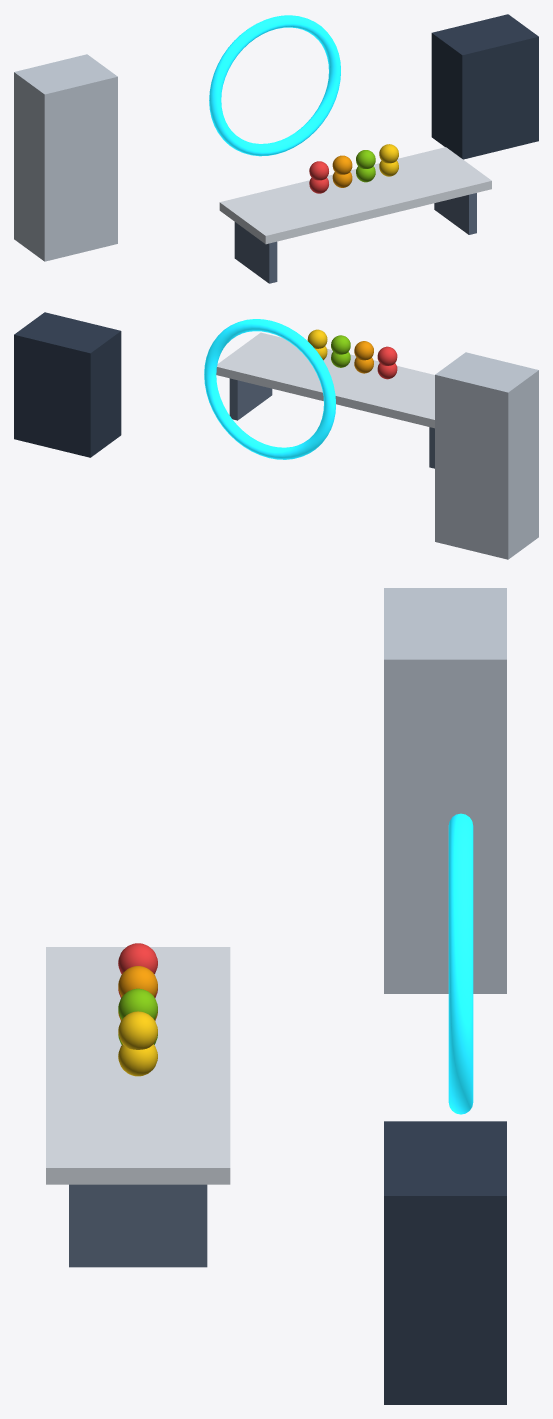
Rendered from futuristic-science-room.glb.
3 renders of one model, top to bottom at view 1: azimuth 30°, elevation 25°; view 2: azimuth 150°, elevation 25°; view 3: azimuth 270°, elevation 25°, orthographic. The views are drawn at different scales.
Parts seen in each view (by area): view 1: refrigerator, oven, kitchen-island, magical-lunchbox-portal, island-leg (×2); view 2: refrigerator, oven, kitchen-island, magical-lunchbox-portal, island-leg, fruit-4, fruit-5, fruit-6, fruit-7; view 3: refrigerator, kitchen-island, oven, island-leg, magical-lunchbox-portal, fruit-7, fruit-3.
Boxes of the visible parts, left/top/right/bottom form: refrigerator: left=14, top=54, right=117, bottom=261; oven: left=431, top=14, right=538, bottom=159; kitchen-island: left=219, top=147, right=491, bottom=244; magical-lunchbox-portal: left=209, top=15, right=340, bottom=156; island-leg (×2): left=234, top=193, right=476, bottom=283; refrigerator: left=435, top=352, right=538, bottom=559; oven: left=14, top=312, right=121, bottom=457; kitchen-island: left=216, top=332, right=434, bottom=428; magical-lunchbox-portal: left=204, top=319, right=335, bottom=459; island-leg: left=229, top=378, right=272, bottom=420; fruit-4: left=377, top=346, right=397, bottom=365; fruit-5: left=354, top=341, right=373, bottom=360; fruit-6: left=331, top=335, right=350, bottom=354; fruit-7: left=307, top=329, right=327, bottom=348; refrigerator: left=384, top=588, right=506, bottom=993; kitchen-island: left=46, top=947, right=230, bottom=1184; oven: left=384, top=1121, right=506, bottom=1404; island-leg: left=69, top=1184, right=207, bottom=1267; magical-lunchbox-portal: left=448, top=813, right=473, bottom=1114; fruit-7: left=118, top=1011, right=157, bottom=1049; fruit-3: left=118, top=1044, right=157, bottom=1076.
Bounding box in the file's own units: 7.42 × 2.43 × 3.
